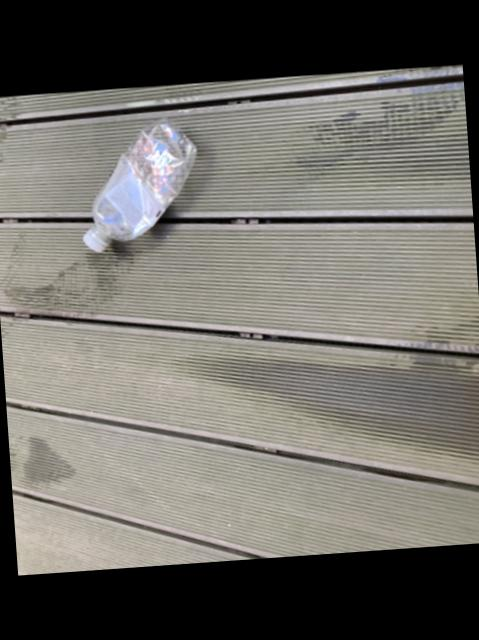plastic: (79, 123, 192, 253)
